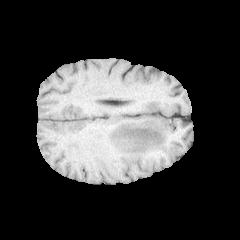glioma: (104, 118, 169, 163)
